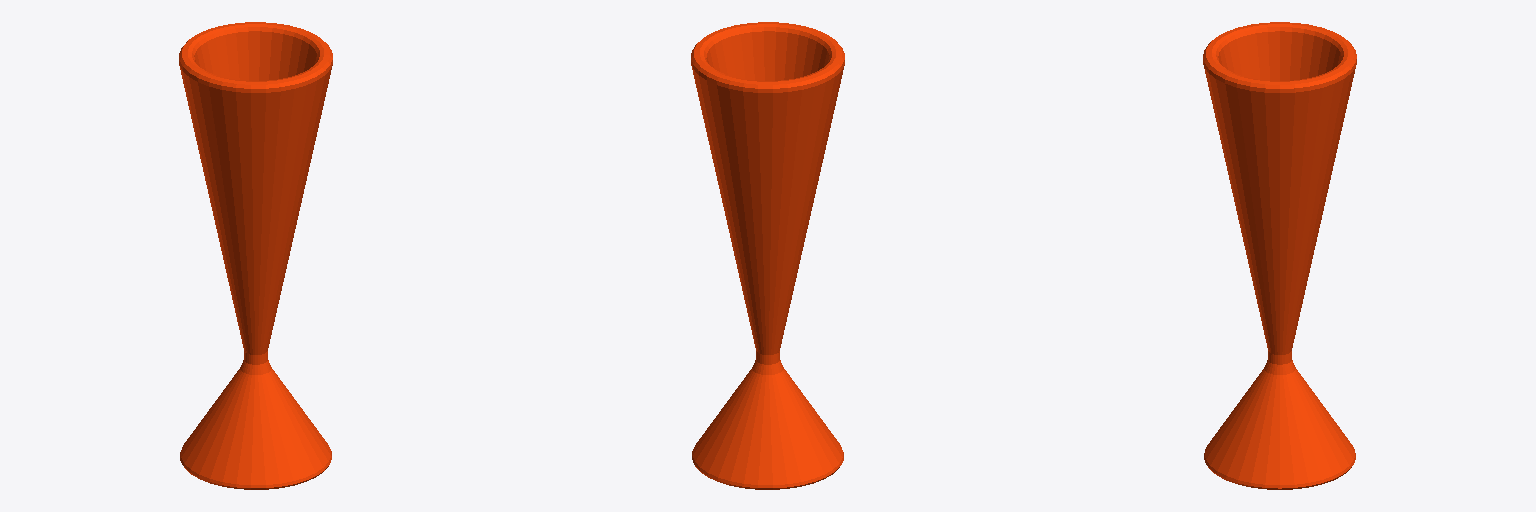
File: Cup_Tall.obj
3 renders of one model, left to right at view 1: azimuth 30°, elevation 25°; view 2: azimuth 150°, elevation 25°; view 3: azimuth 270°, elevation 25°, orthographic.
Parts seen in each view (by area): view 1: Tall_cup.005_Cylinder.019; view 2: Tall_cup.005_Cylinder.019; view 3: Tall_cup.005_Cylinder.019.
Boxes of the visible parts, x1=… form: Tall_cup.005_Cylinder.019: x1=179, y1=22, x2=332, y2=489; Tall_cup.005_Cylinder.019: x1=691, y1=22, x2=844, y2=489; Tall_cup.005_Cylinder.019: x1=1203, y1=22, x2=1356, y2=489.
Bounding box in the file's own units: 9.89 × 28.6 × 9.89.